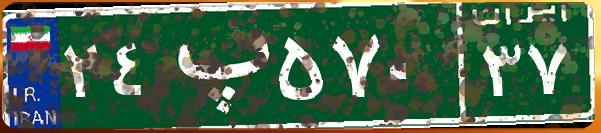0: (385, 28, 445, 110)
2: (57, 26, 110, 107)
3: (475, 38, 525, 113)
4: (110, 28, 158, 105)
5: (273, 28, 330, 110)
7: (330, 28, 385, 110), (525, 38, 570, 115)
پ: (158, 15, 273, 115)
